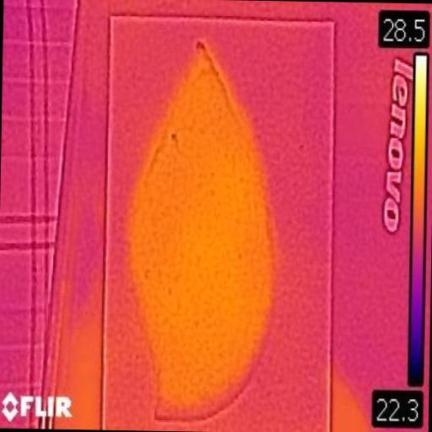mango: (129, 45, 272, 417)
